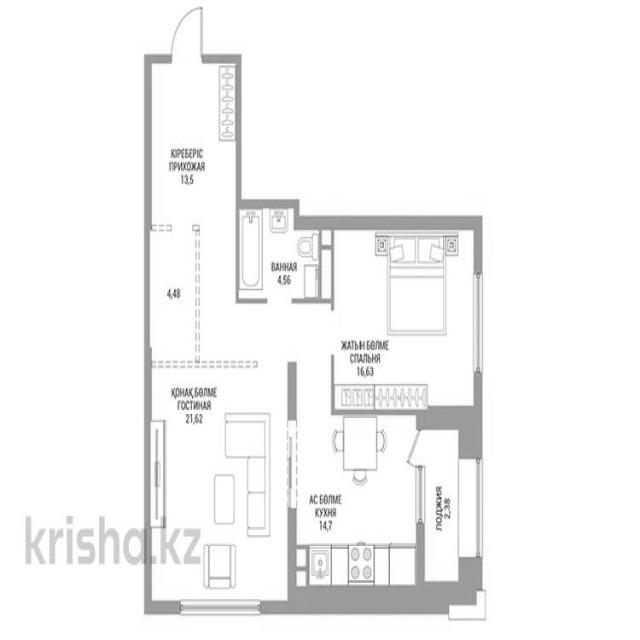balcony: (421, 424, 486, 582)
bathroom: (241, 208, 322, 298)
hallway: (147, 58, 238, 224)
kitchen: (293, 413, 418, 588)
living_room: (151, 365, 292, 604), (330, 223, 478, 411)
